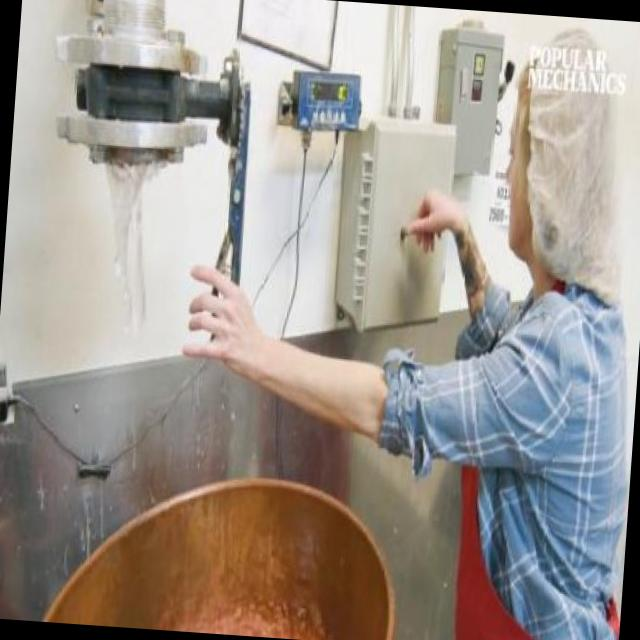hairnet: (514, 33, 621, 190)
